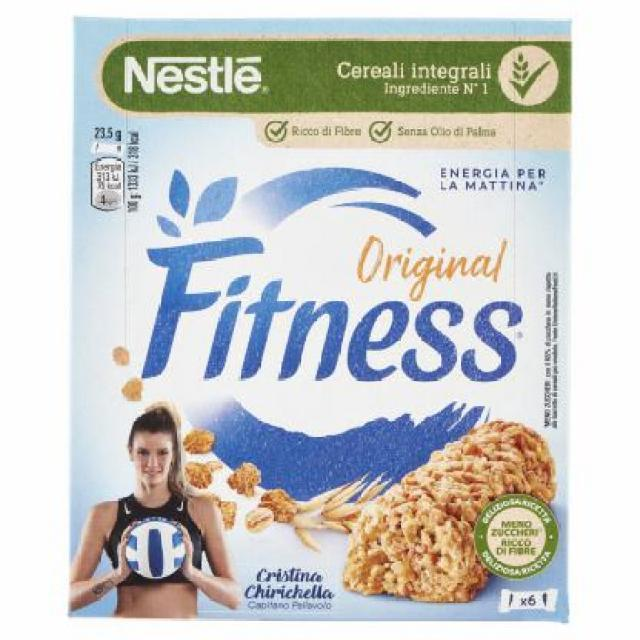Cereal bar: (64, 18, 580, 624)
